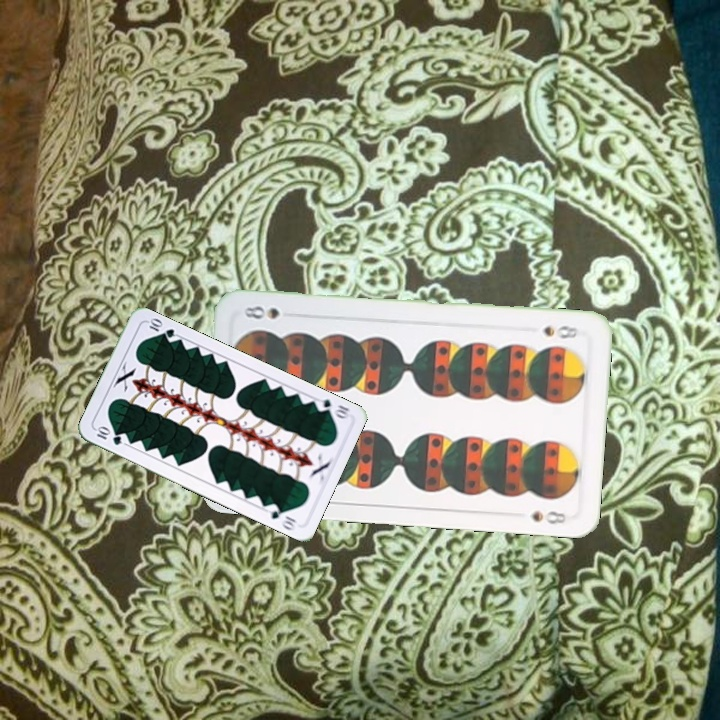G10: (311, 395, 353, 421), (92, 422, 125, 448)
S8: (539, 321, 583, 342)
